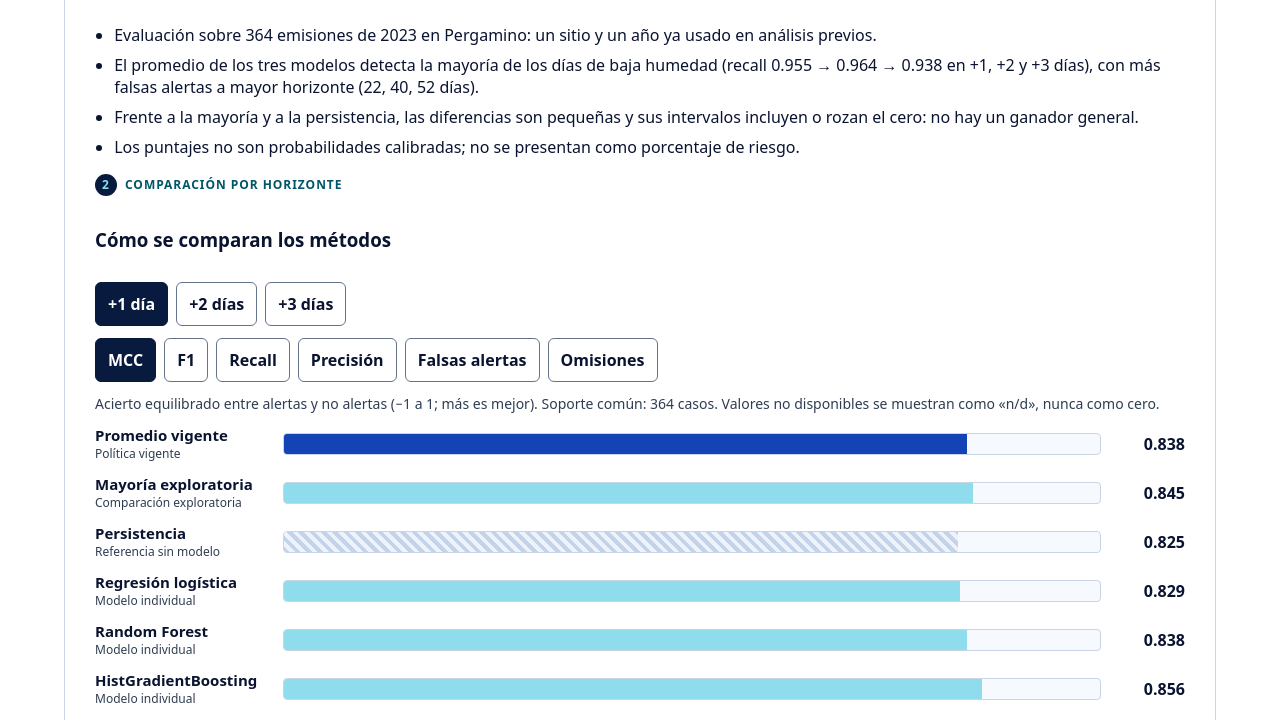
Scenario: shows counts as real integers, never as zero bars standing for missing data
(page scrolled)
Step 1. Click the button "Falsas alertas" → (472, 360), box [405,338,540,382]
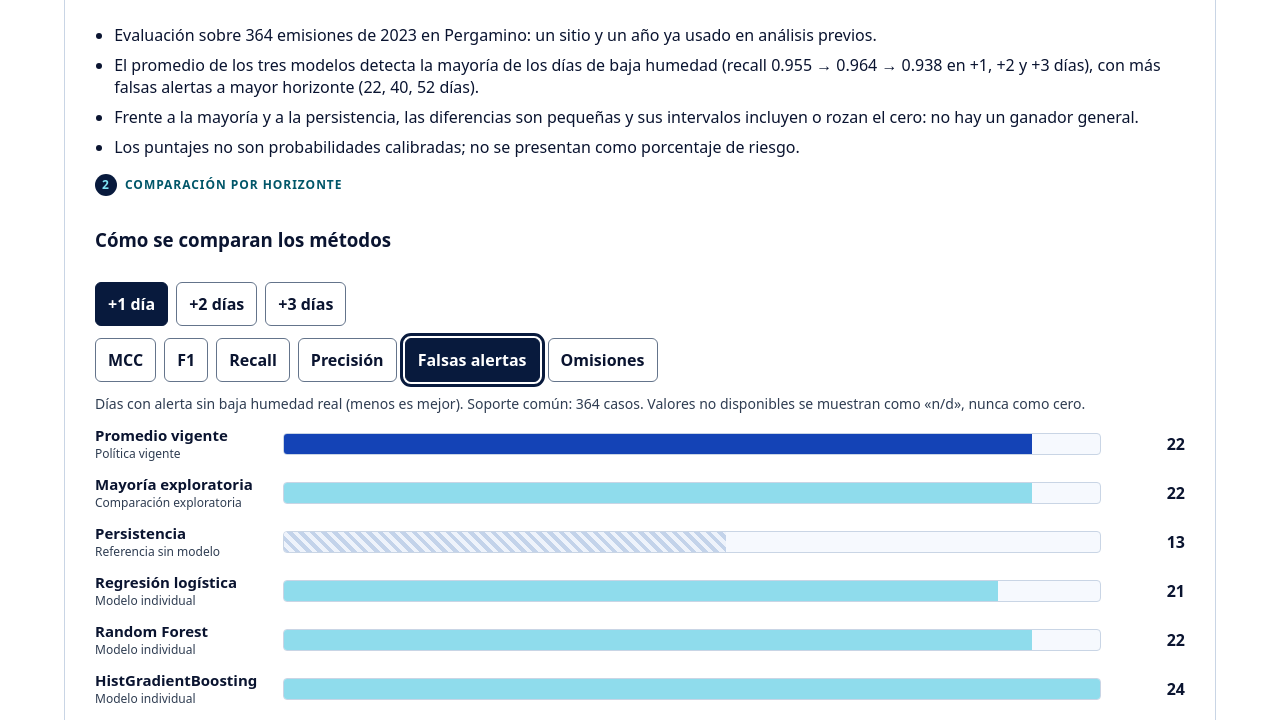
expect the text "22" in the row of "Promedio vigente" is shown: met, box [1167,433,1185,455]
